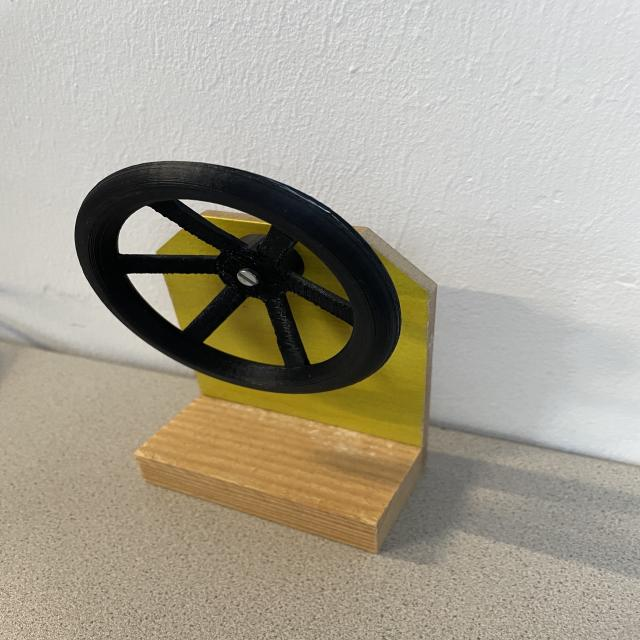Wheel Handle Valve Threaded: (73, 158, 403, 394)
